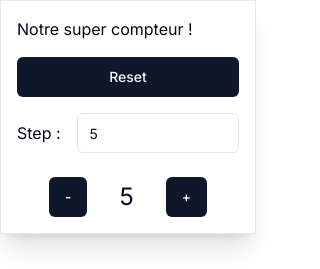
Le composant Counter est initialisé avec une valeur maximum de 10 (maxValue), une valeur initiale de 5 et un step de 5 › Si on clique sur le bouton decrement, ça affiche 0 et le bouton "-" doit être disabled
The image size is (320, 269).
Click the button "-": click(68, 197) [49, 177, 88, 217]
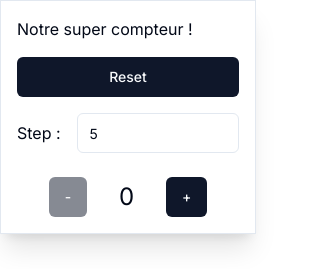
Expected: the text "0" is shown, [119, 181, 134, 213]
Expected: the button "-" is disabled, [49, 177, 87, 217]
